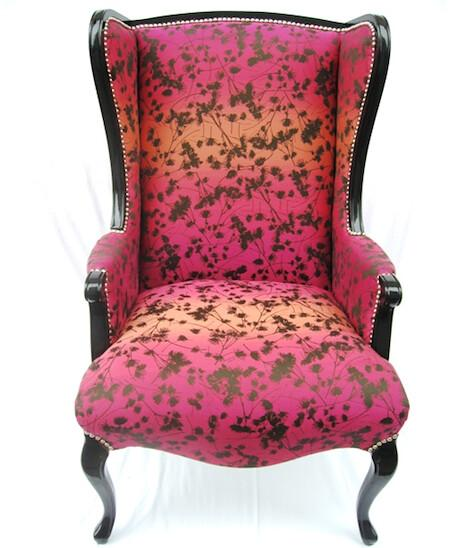chair: (77, 9, 410, 546)
